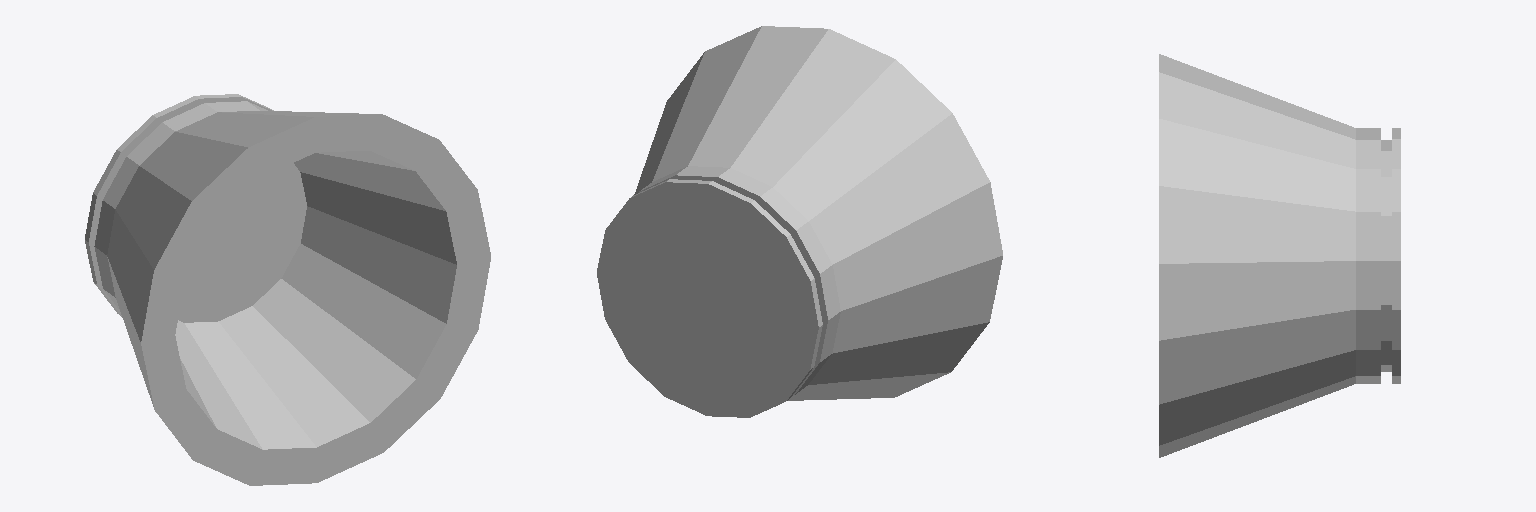
The model's file is bucketOBJ.obj.
3 views of the same model, side by side, from view 1: azimuth 30°, elevation 25°; view 2: azimuth 150°, elevation 25°; view 3: azimuth 270°, elevation 25° (orthographic).
Visible parts, largest first — view 1: Cylinder; view 2: Cylinder; view 3: Cylinder.
Part boxes in pixels (x1,y1,x2,y2): Cylinder: (85,94,490,485); Cylinder: (597,26,1002,417); Cylinder: (1159,54,1400,457).
Size of the model in its own units: 3.16 by 3.16 by 1.88.